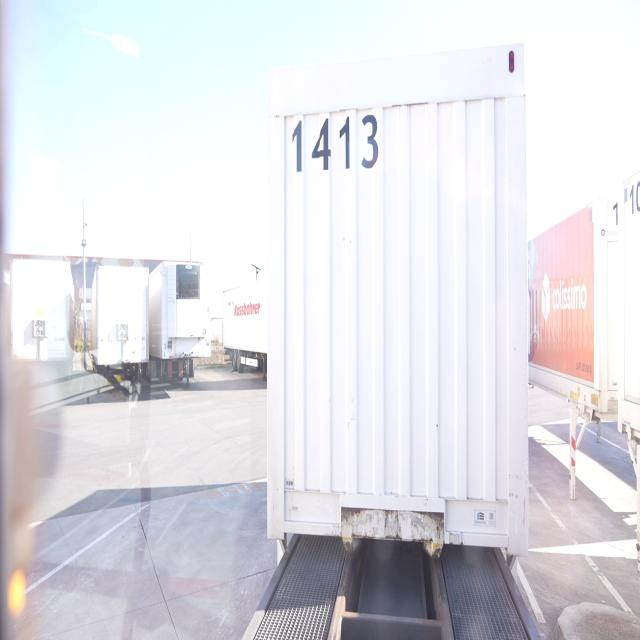Code: (292, 107, 381, 174)
